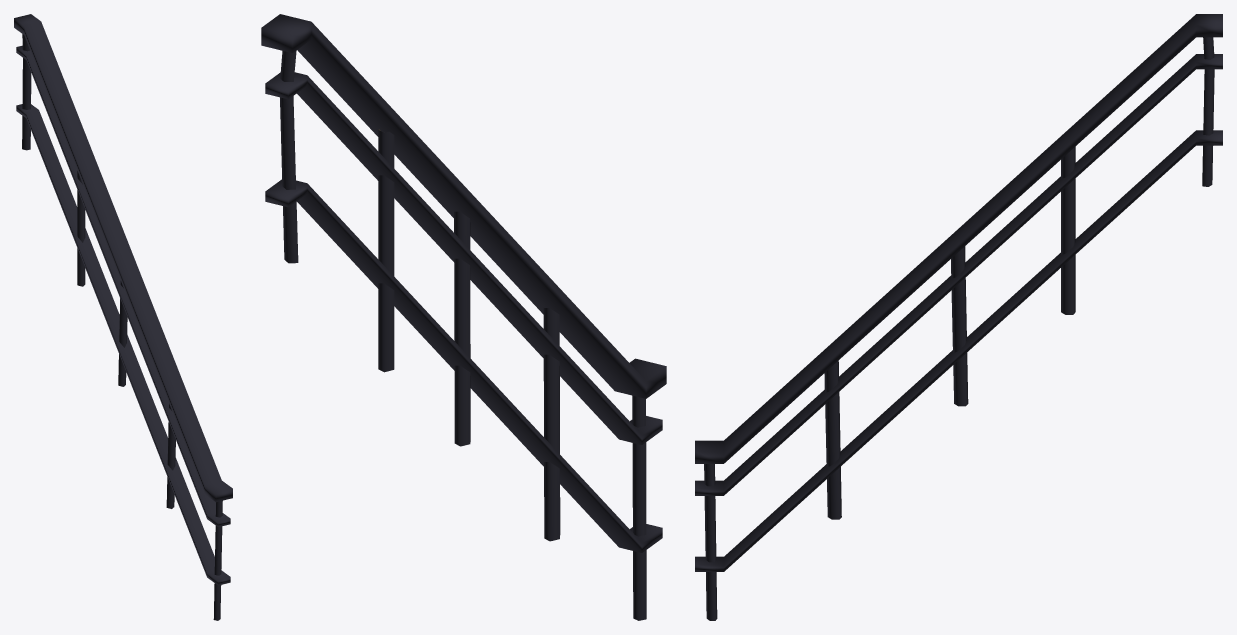
File: SM_Bld_House_Stairs_04_Railing_02.fbx
3 views of the same model, side by side, from view 1: azimuth 30°, elevation 25°; view 2: azimuth 150°, elevation 25°; view 3: azimuth 270°, elevation 25° (orthographic). The views are drawn at different scales.
Visible parts, largest first — view 1: SM_Bld_House_Stairs_04_Railing_02_Outline; view 2: SM_Bld_House_Stairs_04_Railing_02_Outline; view 3: SM_Bld_House_Stairs_04_Railing_02_Outline.
Part boxes in pixels (bbox=[...]): SM_Bld_House_Stairs_04_Railing_02_Outline: bbox=[14, 14, 232, 620]; SM_Bld_House_Stairs_04_Railing_02_Outline: bbox=[261, 14, 666, 620]; SM_Bld_House_Stairs_04_Railing_02_Outline: bbox=[695, 14, 1222, 620].
Bounding box in the file's own units: 13.7 × 352 × 280.
